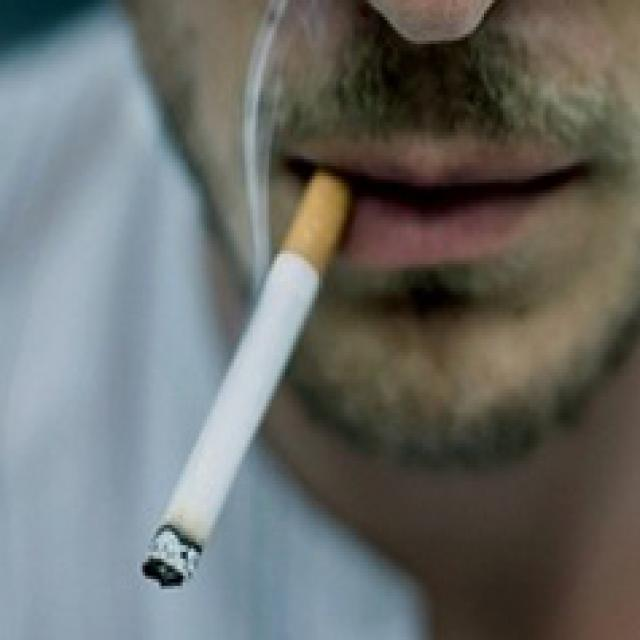smoking: (143, 165, 355, 589)
